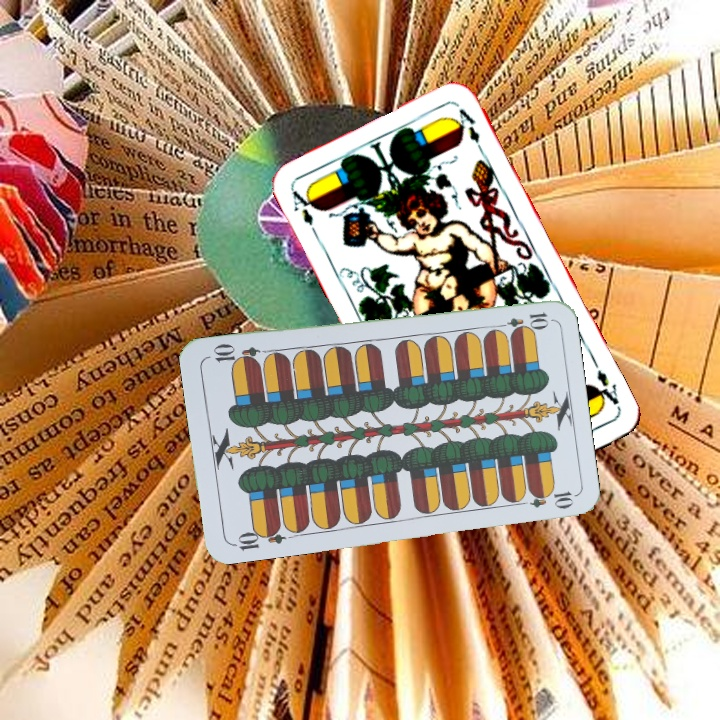E10: (228, 522, 287, 554), (492, 308, 551, 333)
EA: (288, 186, 322, 241), (588, 365, 623, 412)
